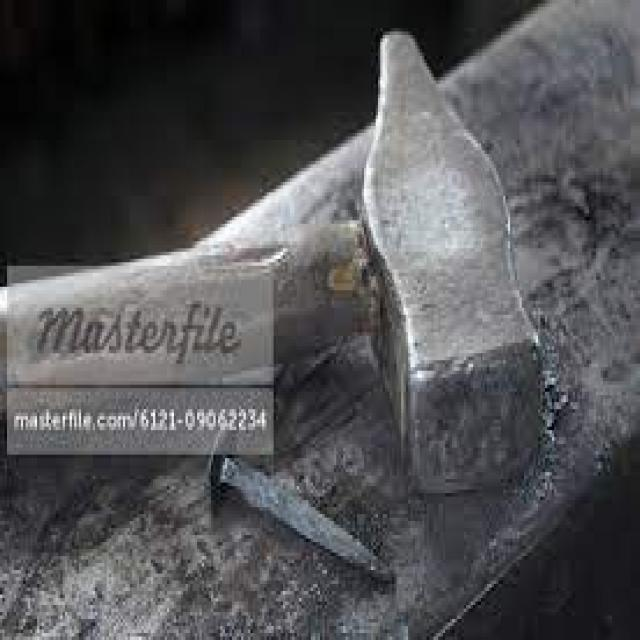hammer: (0, 21, 552, 518)
